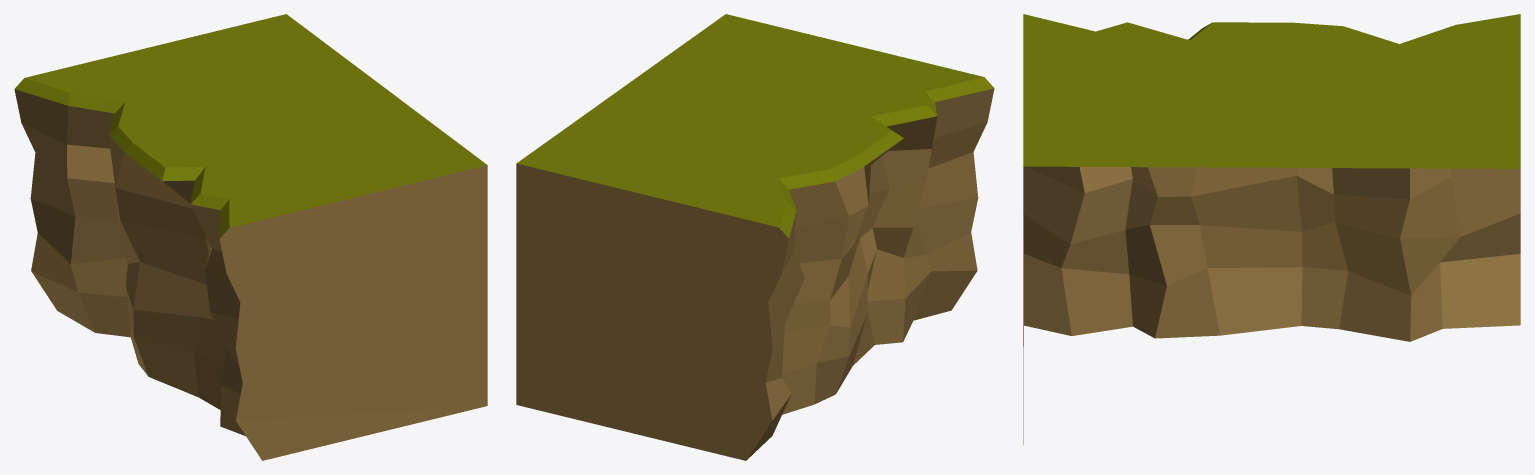
The model's file is Cliff.fbx.
3 renders of one model, left to right at view 1: azimuth 30°, elevation 25°; view 2: azimuth 150°, elevation 25°; view 3: azimuth 270°, elevation 25°, orthographic. The views are drawn at different scales.
Parts seen in each view (by area): view 1: Cliff_1; view 2: Cliff_1; view 3: Cliff_1.
Boxes of the visible parts, bbox=[...] form: Cliff_1: bbox=[14, 14, 487, 460]; Cliff_1: bbox=[516, 14, 994, 460]; Cliff_1: bbox=[1023, 14, 1520, 444].
Bounding box in the file's own units: 1.53 × 2 × 1.3.
